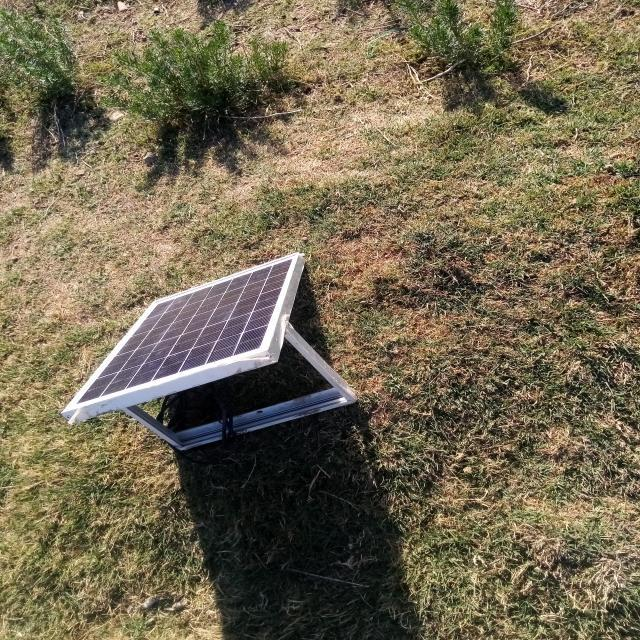no faulty: (62, 252, 297, 413)
